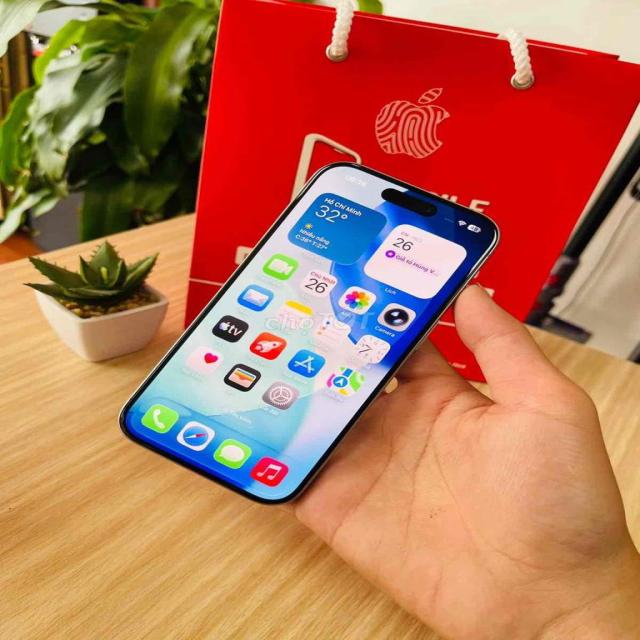gen_15: (120, 149, 497, 504)
